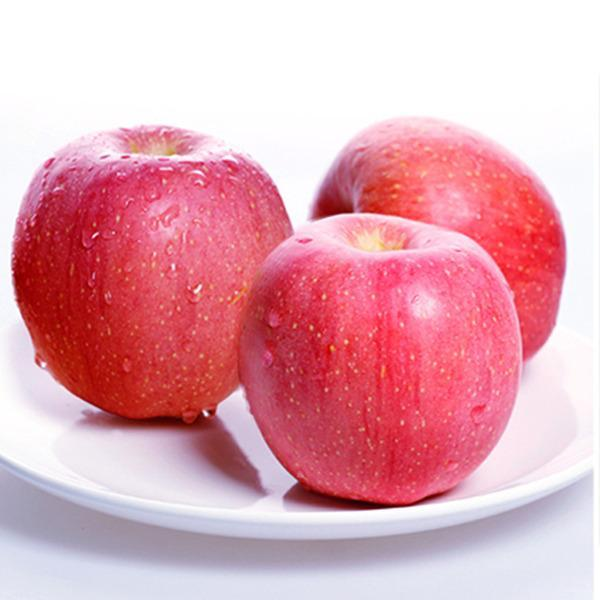apple: (235, 211, 522, 506), (8, 128, 292, 423), (303, 127, 564, 373)
